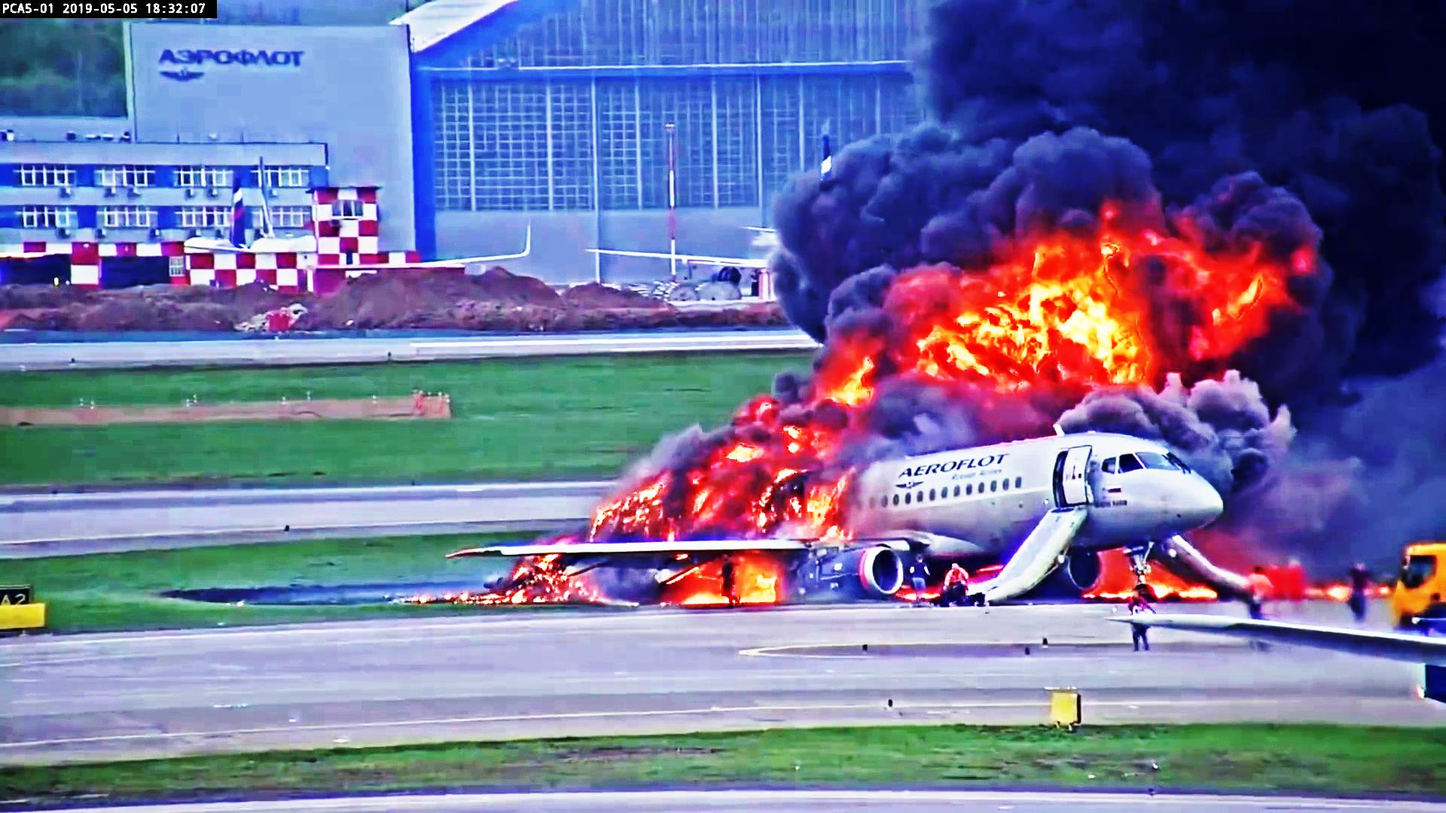fire: (938, 288, 1133, 390)
smoke: (929, 4, 1446, 246)
